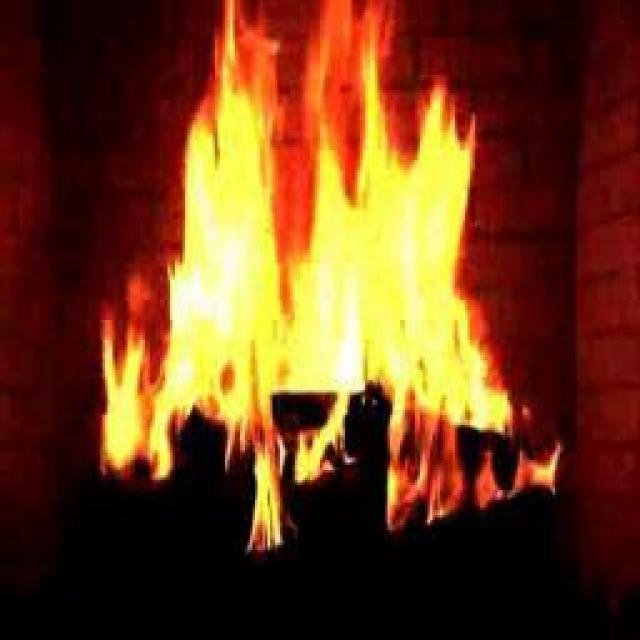Fire: (176, 50, 497, 425)
